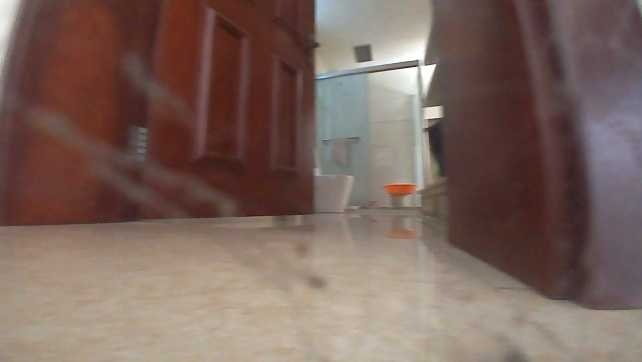door_anno: (110, 0, 320, 225)
toilet: (315, 166, 359, 215)
